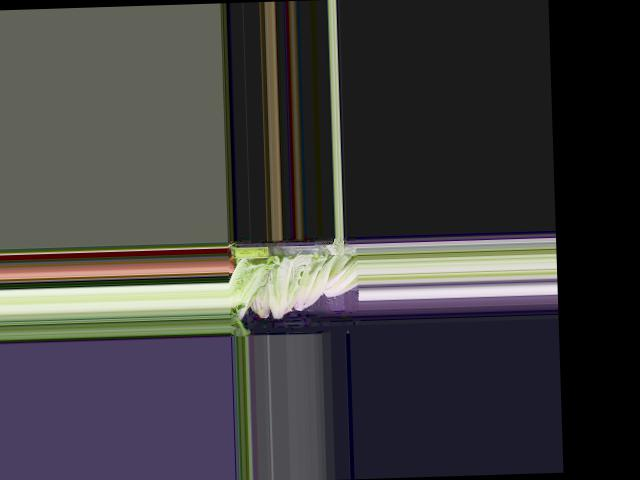lettuce: (319, 256, 359, 299)
